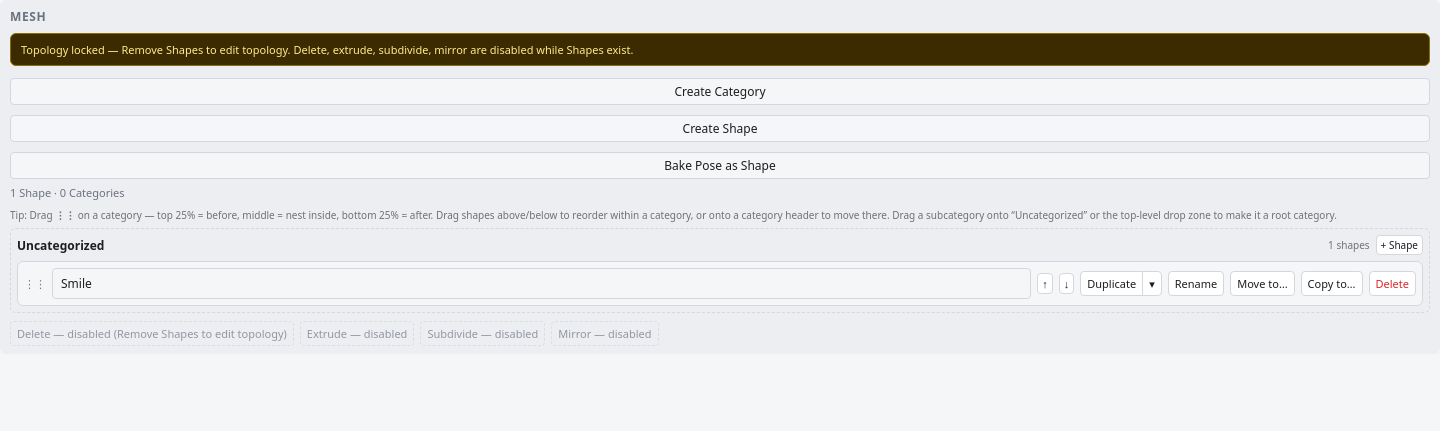
Test case: MeshInspectorSection Duplicate split button › closes the menu on Escape without duplicating
This screenshot has width=1440, height=431.
Click the button named "Duplicate shape Smile options" at {"x": 1152, "y": 284}, box [1142,271,1162,296]
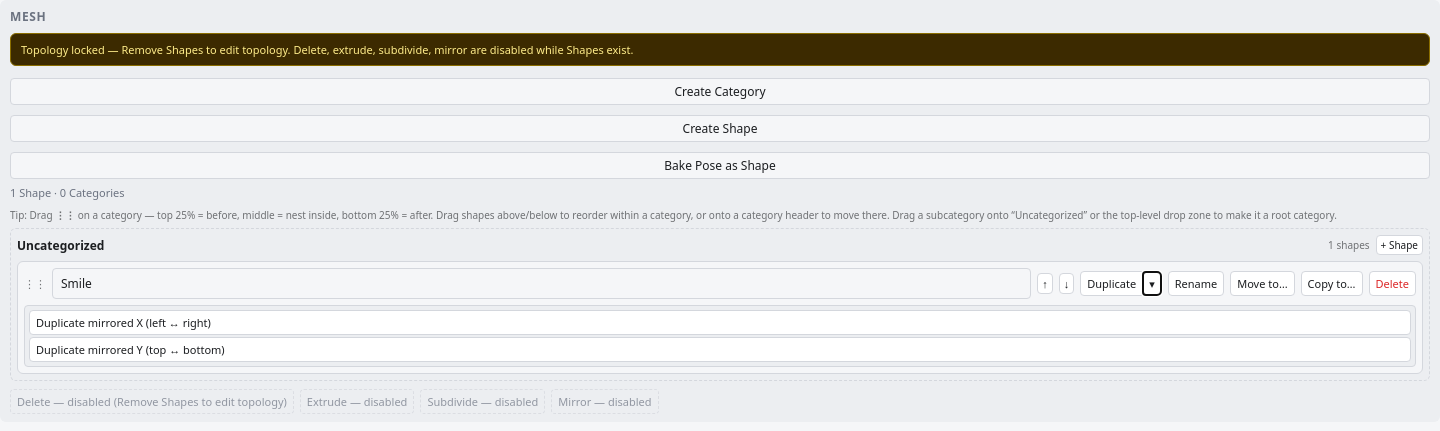
Check: the number of menu items is 2, box [29,310,1411,335]; [29,337,1411,362]
Press Escape
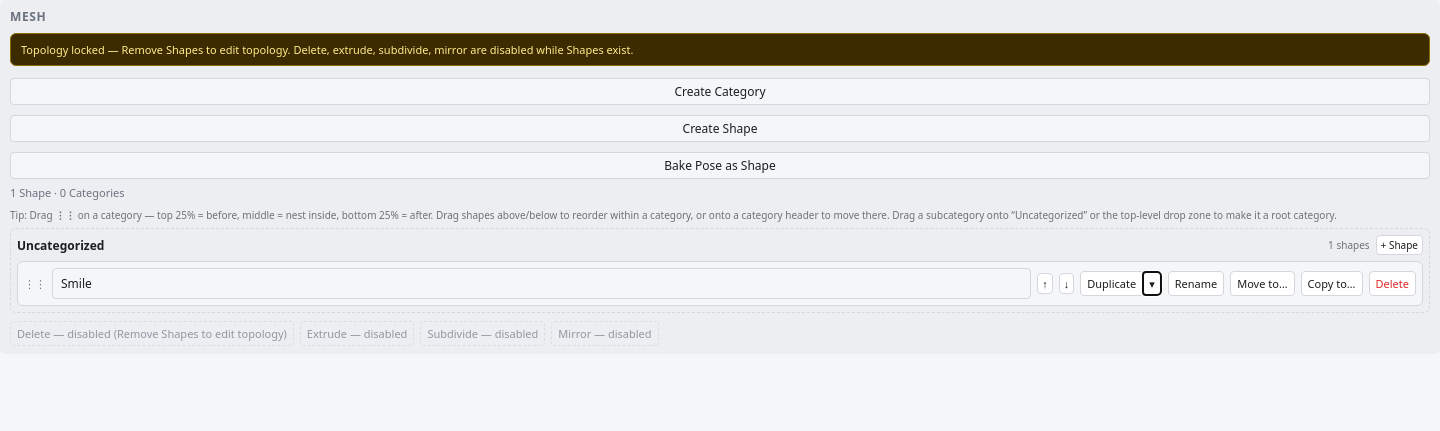
Check: the menu item is gone
